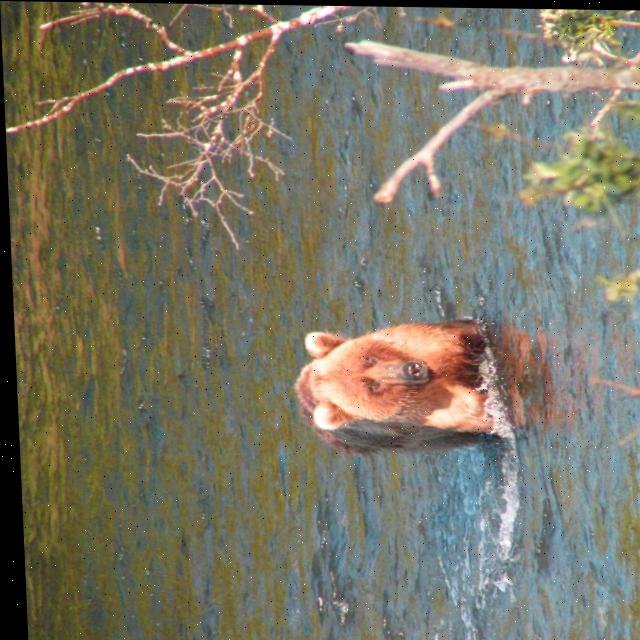bear face: (286, 319, 501, 453)
